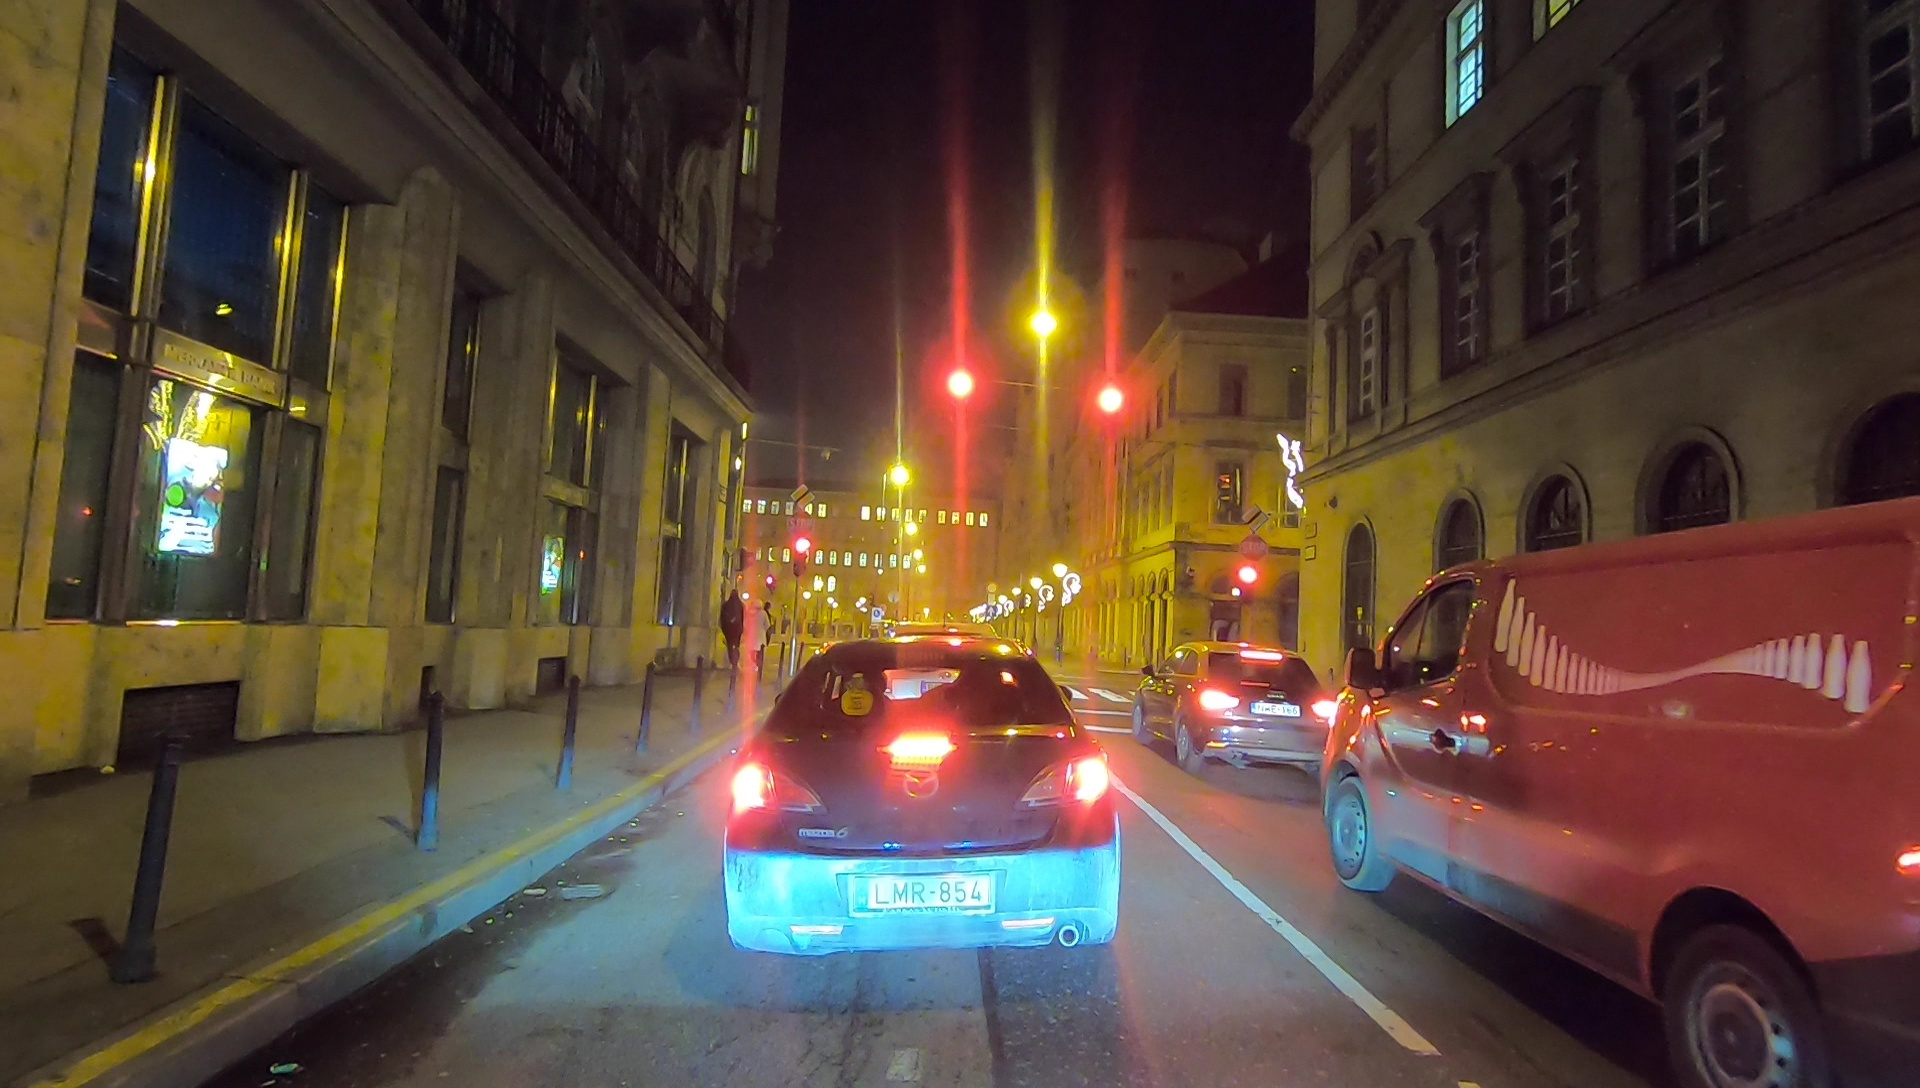person: (747, 597, 773, 680), (721, 591, 743, 678)
